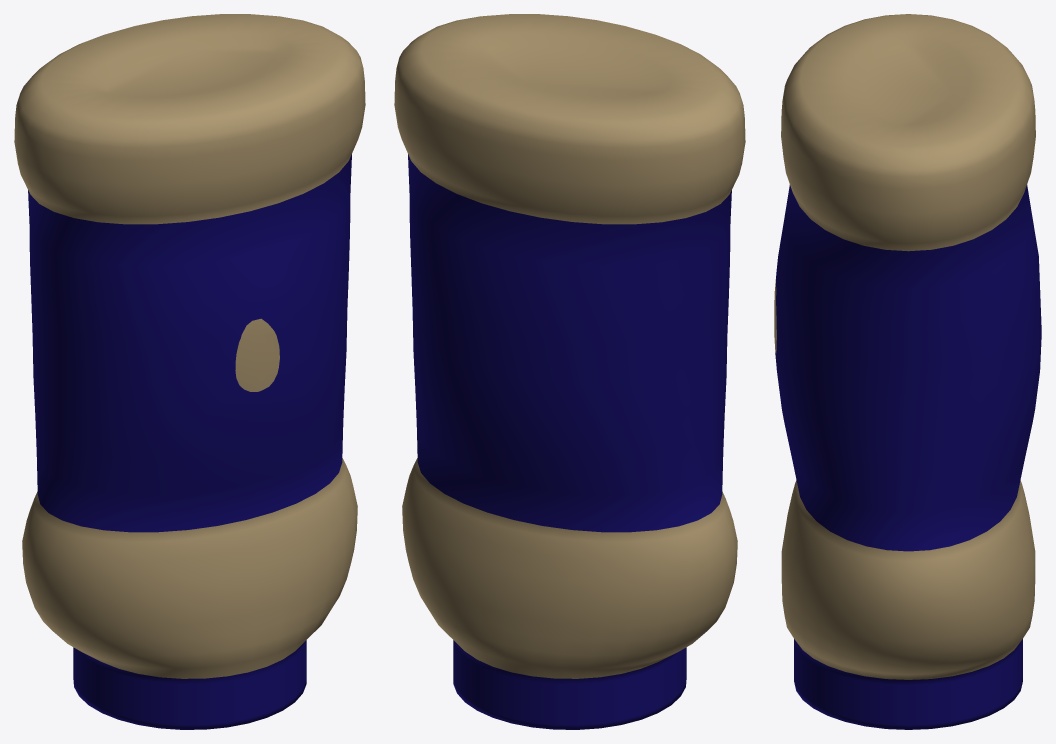
The model's file is MayoBottle.fbx.
The picture shows the model from 3 angles, left to right: view 1: azimuth 30°, elevation 25°; view 2: azimuth 150°, elevation 25°; view 3: azimuth 270°, elevation 25°; orthographic projection. The views are drawn at different scales.
Parts seen in each view (by area): view 1: Cylinder; view 2: Cylinder; view 3: Cylinder.
Part boxes in pixels (bbox=[...]): Cylinder: bbox=[14, 14, 365, 729]; Cylinder: bbox=[394, 14, 745, 729]; Cylinder: bbox=[774, 14, 1041, 729].
Size of the model in its own units: 322 by 580 by 234.
